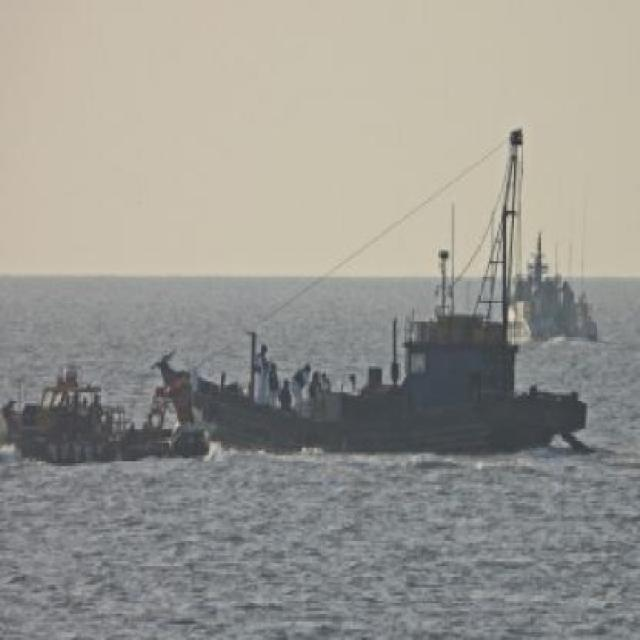fish-b: (138, 122, 606, 483)
